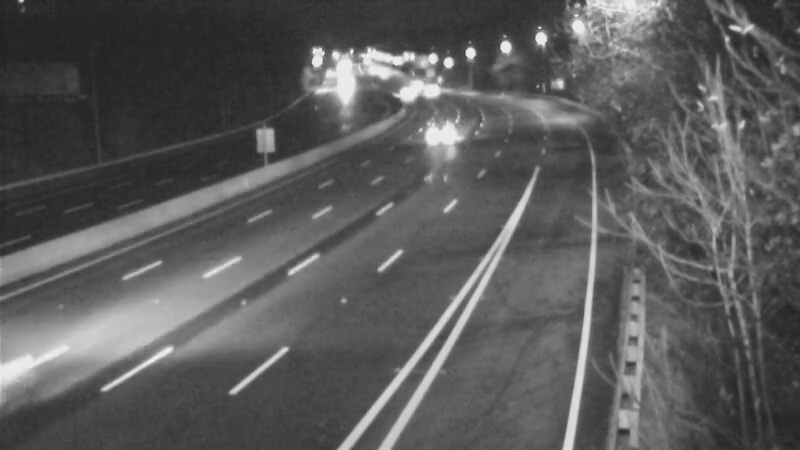vehicle: (392, 61, 442, 111), (409, 67, 459, 117), (382, 69, 432, 119), (416, 111, 466, 161), (321, 62, 371, 112)
